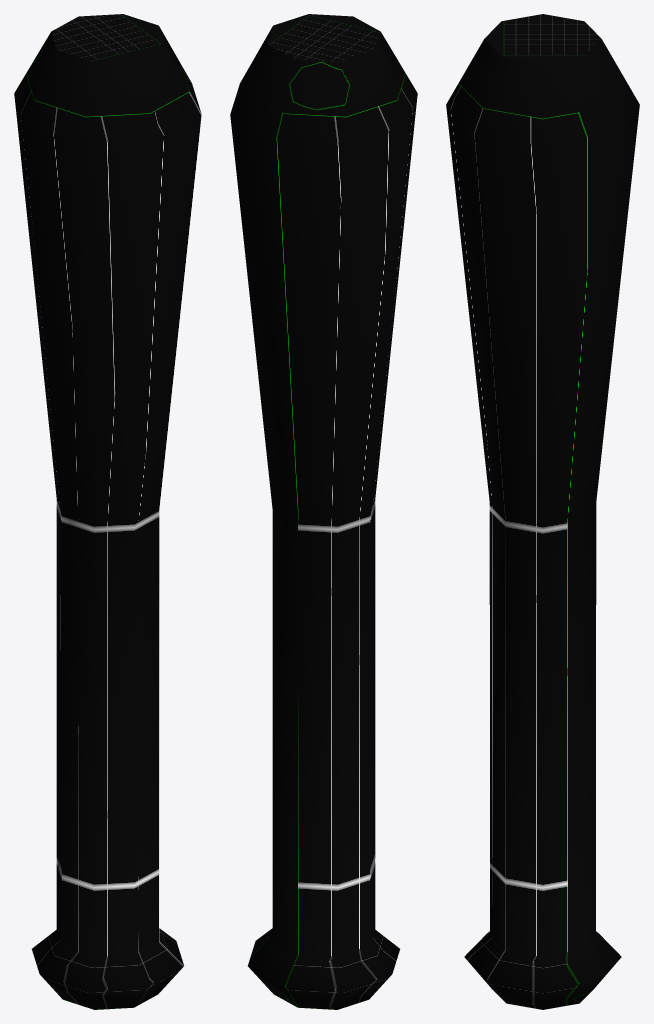
The model's file is Slugger.FBX.
3 renders of one model, left to right at view 1: azimuth 30°, elevation 25°; view 2: azimuth 150°, elevation 25°; view 3: azimuth 270°, elevation 25°, orthographic.
Parts seen in each view (by area): view 1: Slugger; view 2: Slugger; view 3: Slugger.
Part boxes in pixels (x1,y1,x2,y2): Slugger: (14, 14, 201, 1009); Slugger: (230, 14, 417, 1009); Slugger: (446, 14, 639, 1009).
Size of the model in its own units: 7.29 by 39.37 by 7.29.
1 material, 1 textured.
